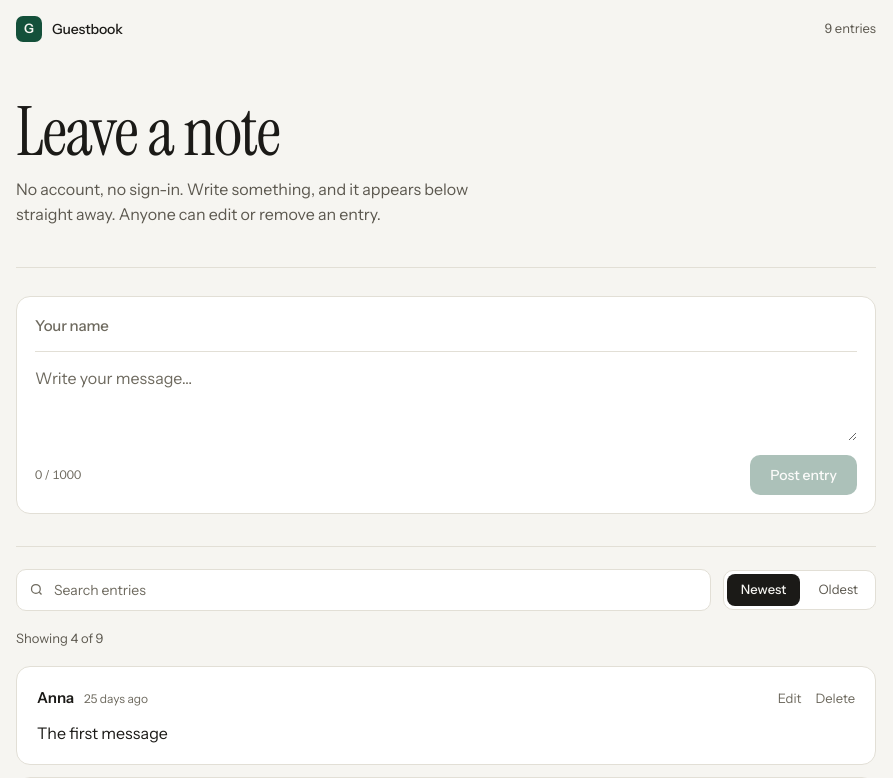
Test: correcting and destroying › opens the editor inside the entry that was chosen, and only that one
Expected: the text "The first message" is shown, [37,723,168,743]
What coordinates should you click on to do the following:
click the button "Edit"
I would click on:
 (790, 699)
Its box is [778,689,802,709].
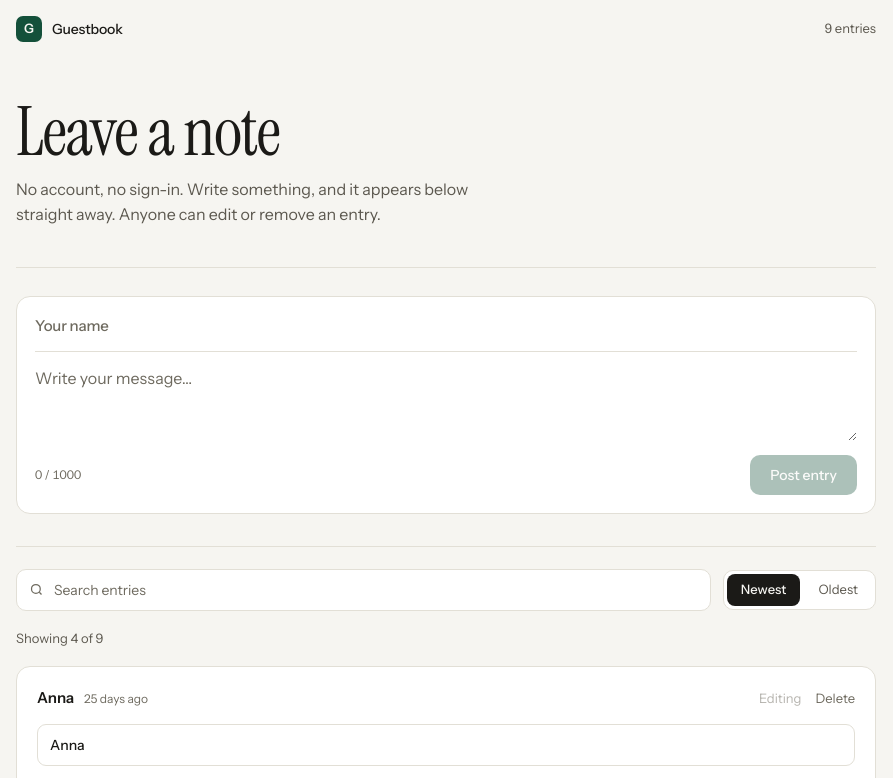
Expected: the field named "Edit name" holds "Anna", [37,724,855,766]
